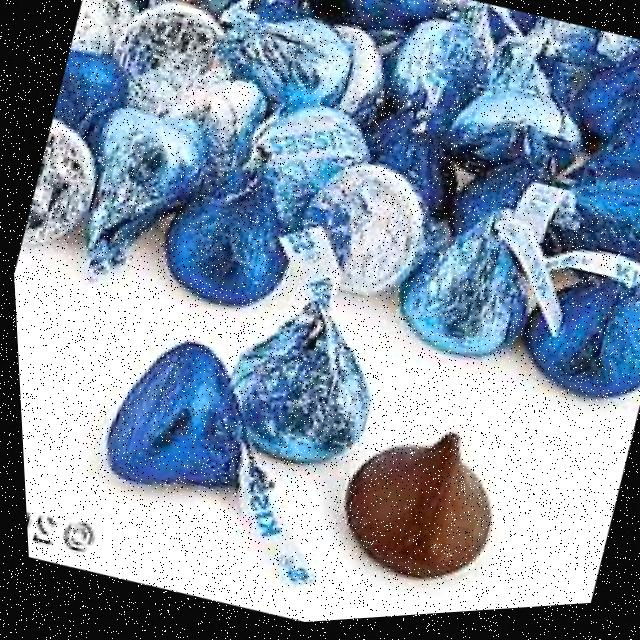kisses: (274, 140, 448, 318), (93, 0, 246, 132), (12, 117, 112, 267)
